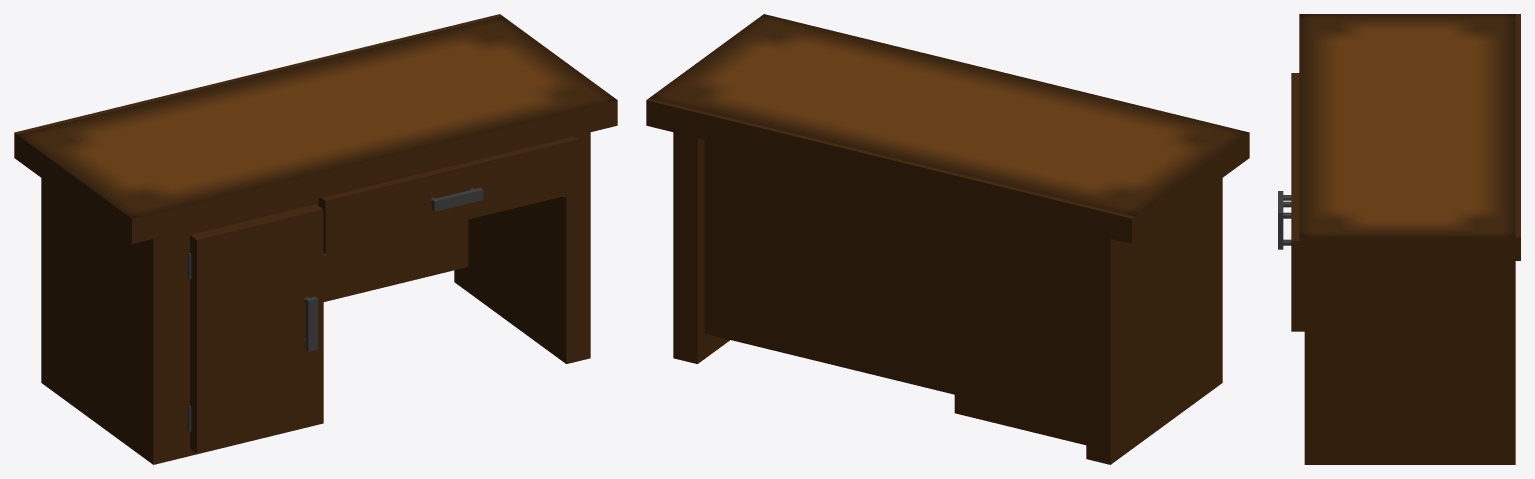
The model's file is BNG_Table_Wood_01.fbx.
3 renders of one model, left to right at view 1: azimuth 30°, elevation 25°; view 2: azimuth 150°, elevation 25°; view 3: azimuth 270°, elevation 25°, orthographic. The views are drawn at different scales.
Parts seen in each view (by area): view 1: Tablet_Body, Tablet_Body_Drawer, Tablet_Body_Slide_Drawer; view 2: Tablet_Body; view 3: Tablet_Body, Tablet_Body_Slide_Drawer, Tablet_Body_Drawer.
Boxes of the visible parts, x1,y1,x2,y2 form: Tablet_Body: [14, 14, 617, 464]; Tablet_Body_Drawer: [187, 204, 323, 453]; Tablet_Body_Slide_Drawer: [318, 136, 578, 254]; Tablet_Body: [646, 14, 1249, 464]; Tablet_Body: [1299, 14, 1520, 464]; Tablet_Body_Slide_Drawer: [1278, 125, 1304, 290]; Tablet_Body_Drawer: [1278, 73, 1304, 331].
Size of the model in its own units: 200 by 100 by 92.
